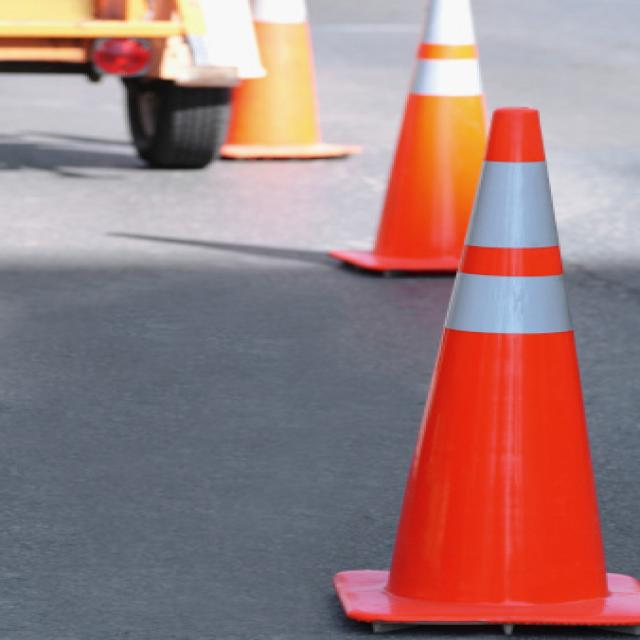cone: (336, 107, 640, 633), (326, 0, 490, 274)
